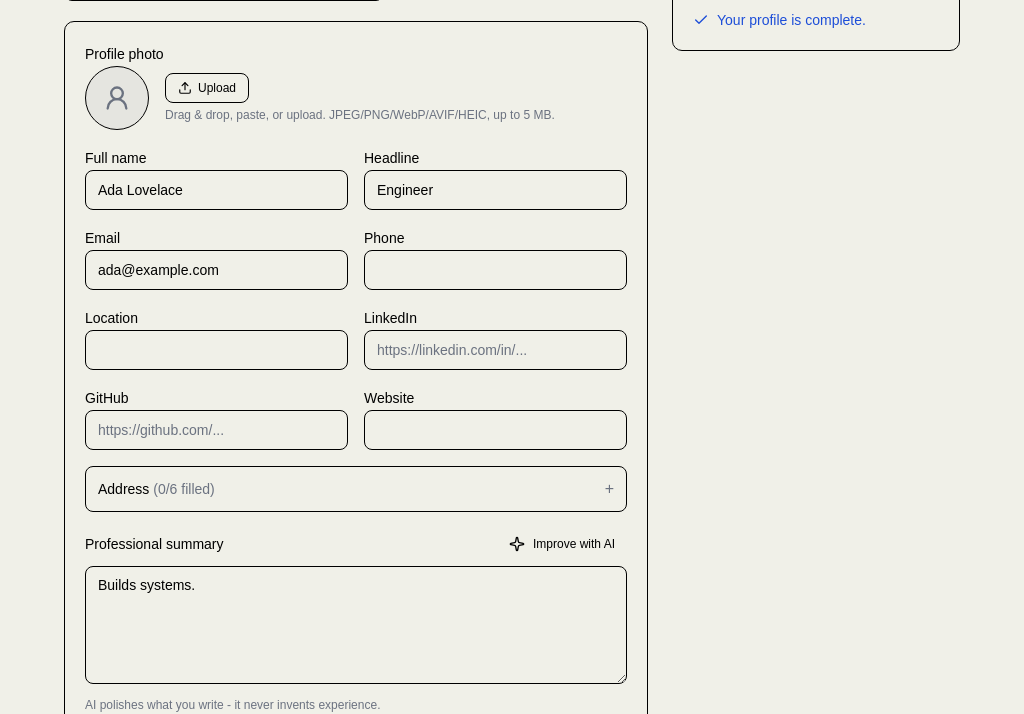
Test case: ProfileWorkspace › reloads on a version-CAS conflict without losing the server state
(page scrolled)
Replace the text in the text box showing "Builds systems." with "My edit." at (356, 625), box [85,566,627,684]
(page scrolled)
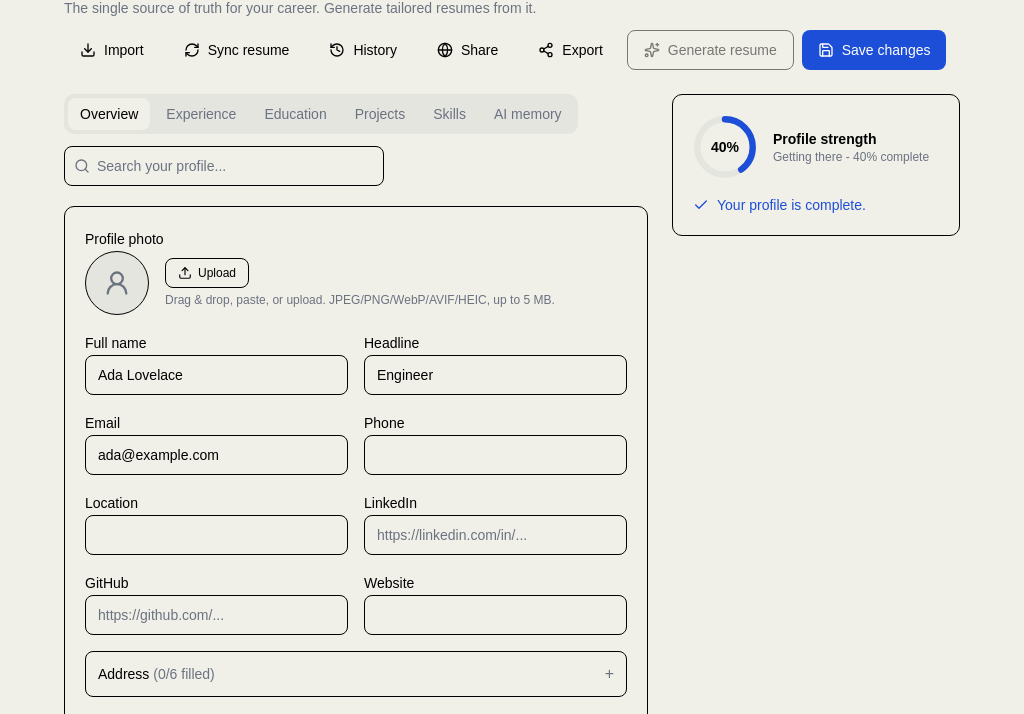
Click the button "Save changes".
click(874, 50)  # box [802,30,946,70]
(page scrolled)
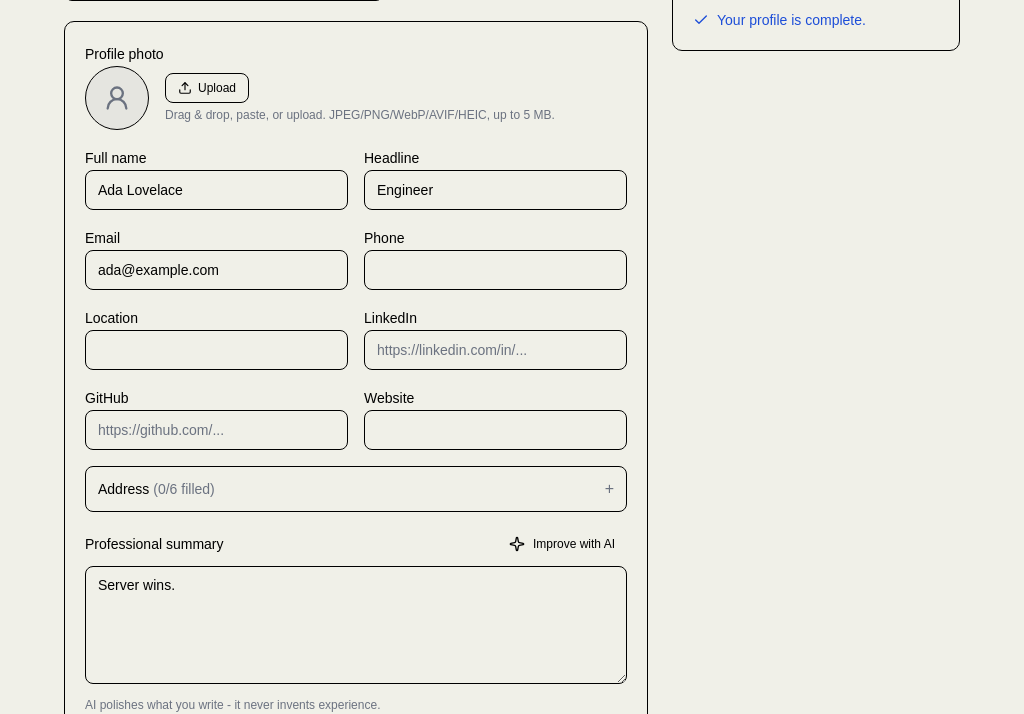
Check: the text box showing "Server wins." is shown, box [85,566,627,684]
